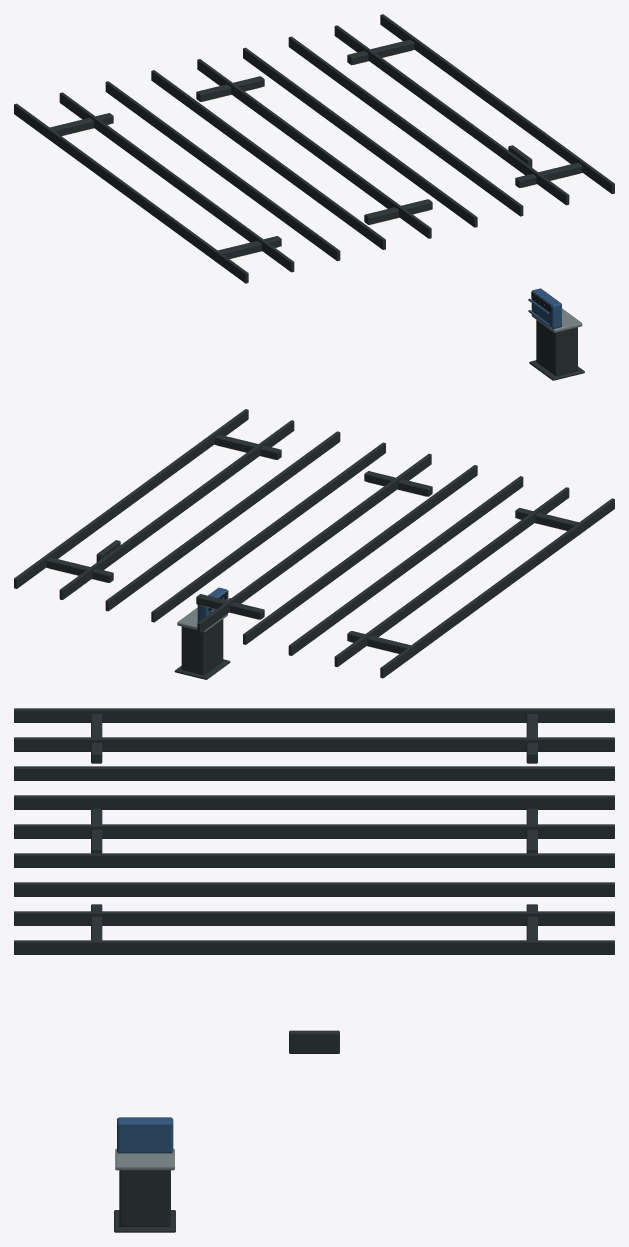
File: SILENT_Room_06_A_Objects.fbx
3 views of the same model, one above another, from view 1: azimuth 30°, elevation 25°; view 2: azimuth 150°, elevation 25°; view 3: azimuth 270°, elevation 25° (orthographic). The views are drawn at different scales.
Parts seen in each view (by area): view 1: Room_06_A_Objects_Merged, A ceiling acoustic baffle.006, A ceiling acoustic baffle.002, A ceiling acoustic baffle, A ceiling acoustic baffle.005, A ceiling acoustic baffle.003, A ceiling acoustic baffle.001, A ceiling acoustic baffle.007, A ceiling acoustic baffle.004, A ceiling acoustic baffle.008, A ceiling lamp housing.004, A ceiling lamp housing.001 (+4 smaller); view 2: A ceiling acoustic baffle.006, A ceiling acoustic baffle.002, A ceiling acoustic baffle, A ceiling acoustic baffle.003, A ceiling acoustic baffle.005, Room_06_A_Objects_Merged, A ceiling acoustic baffle.001, A ceiling acoustic baffle.007, A ceiling acoustic baffle.008, A ceiling acoustic baffle.004, A ceiling lamp housing.004, A ceiling lamp housing.001 (+4 smaller); view 3: A ceiling acoustic baffle.002, A ceiling acoustic baffle.005, A ceiling acoustic baffle.006, A ceiling acoustic baffle.008, A ceiling acoustic baffle.003, A ceiling acoustic baffle, A ceiling acoustic baffle.001, A ceiling acoustic baffle.004, A ceiling acoustic baffle.007, Room_06_A_Objects_Merged.
Boxes of the visible parts, box(x1,y1,x2,y2) form: Room_06_A_Objects_Merged: box(508, 145, 584, 380); A ceiling acoustic baffle.006: box(288, 36, 523, 216); A ceiling acoustic baffle.002: box(105, 81, 340, 261); A ceiling acoustic baffle: box(14, 103, 248, 283); A ceiling acoustic baffle.005: box(243, 47, 477, 227); A ceiling acoustic baffle.003: box(151, 70, 385, 249); A ceiling acoustic baffle.001: box(59, 92, 294, 272); A ceiling acoustic baffle.007: box(334, 25, 569, 205); A ceiling acoustic baffle.004: box(197, 59, 431, 238); A ceiling acoustic baffle.008: box(380, 14, 614, 193); A ceiling lamp housing.004: box(196, 76, 264, 101); A ceiling lamp housing.001: box(364, 199, 432, 224); A ceiling acoustic baffle.006: box(105, 431, 340, 611); A ceiling acoustic baffle.002: box(288, 476, 523, 655); A ceiling acoustic baffle: box(380, 498, 614, 678); A ceiling acoustic baffle.003: box(243, 465, 477, 644); A ceiling acoustic baffle.005: box(151, 442, 385, 622); Room_06_A_Objects_Merged: box(96, 540, 230, 679); A ceiling acoustic baffle.001: box(334, 487, 569, 667); A ceiling acoustic baffle.007: box(59, 420, 294, 599); A ceiling acoustic baffle.008: box(14, 409, 248, 588); A ceiling acoustic baffle.004: box(197, 453, 431, 633); A ceiling lamp housing.004: box(196, 594, 264, 619); A ceiling lamp housing.001: box(364, 471, 432, 496); A ceiling acoustic baffle.002: box(14, 766, 614, 780); A ceiling acoustic baffle.005: box(14, 853, 614, 867); A ceiling acoustic baffle.006: box(14, 882, 614, 896); A ceiling acoustic baffle.008: box(14, 940, 614, 954); A ceiling acoustic baffle.003: box(14, 795, 614, 809); A ceiling acoustic baffle: box(14, 708, 614, 722); A ceiling acoustic baffle.001: box(14, 737, 614, 751); A ceiling acoustic baffle.004: box(14, 824, 614, 838); A ceiling acoustic baffle.007: box(14, 911, 614, 925); Room_06_A_Objects_Merged: box(114, 1030, 339, 1232).
Bounding box in the file's own units: 7.3 × 3.91 × 7.45.
